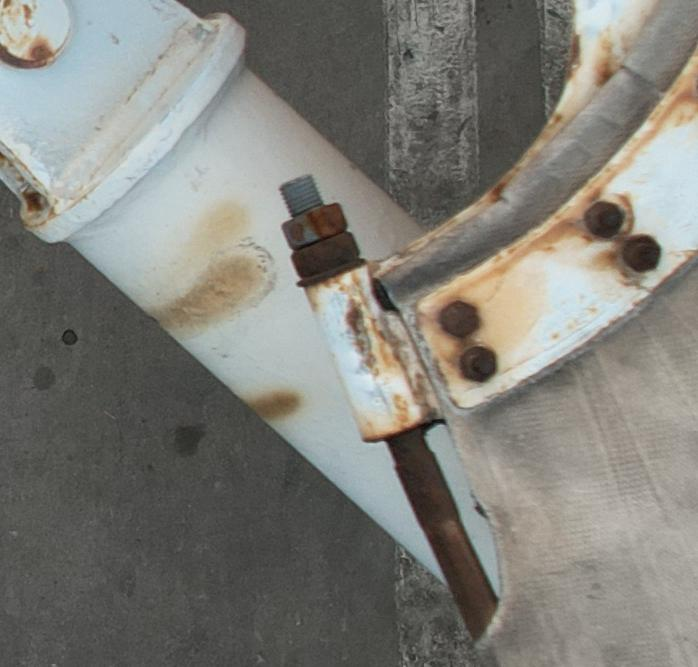bolt_c: (280, 200, 348, 251)
vague: (618, 233, 662, 271), (439, 300, 480, 340), (584, 201, 623, 239), (459, 345, 496, 384)
